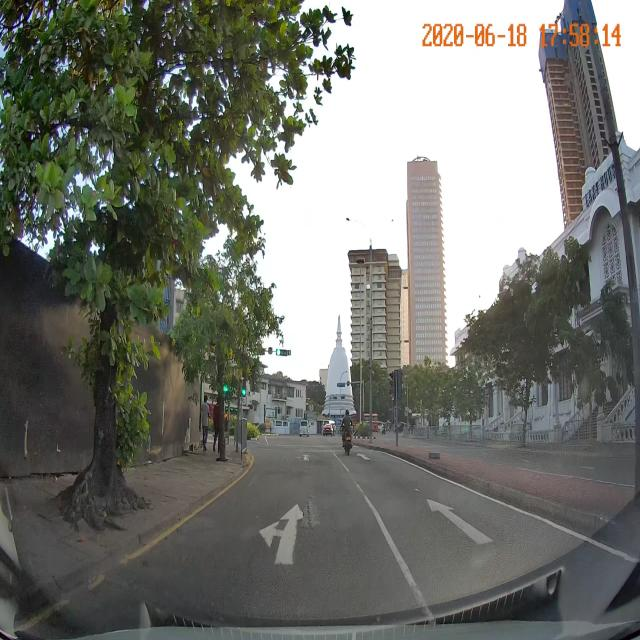forward_lft: (112, 489, 420, 584), (134, 510, 412, 564), (148, 502, 398, 544)
